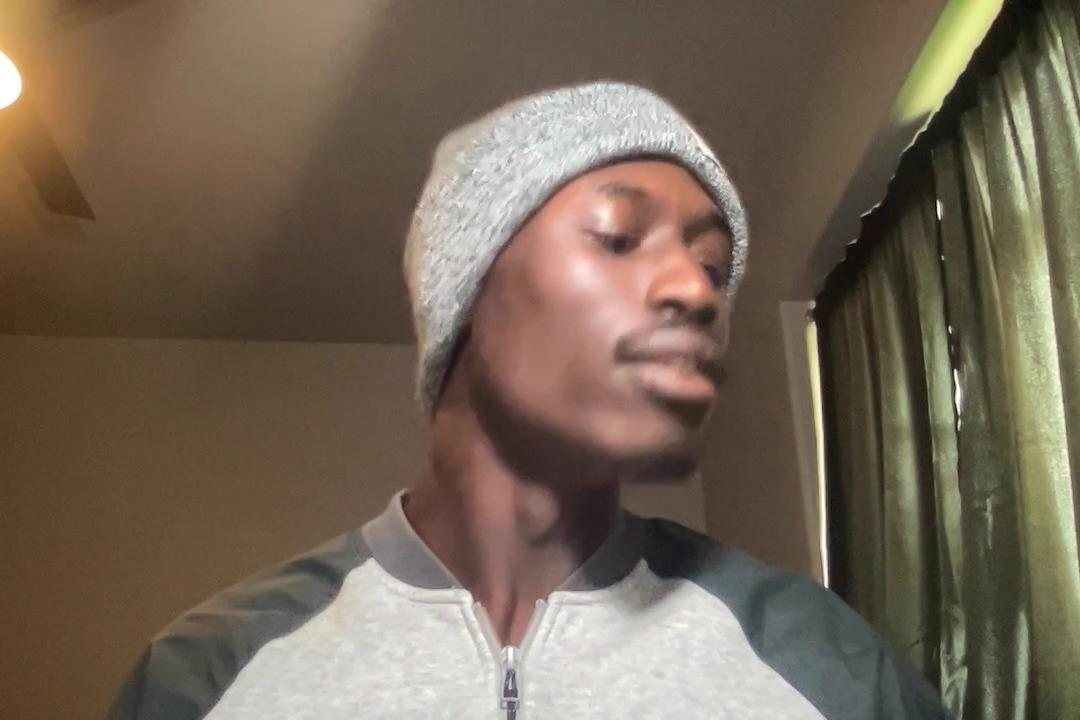face: (414, 70, 749, 490)
